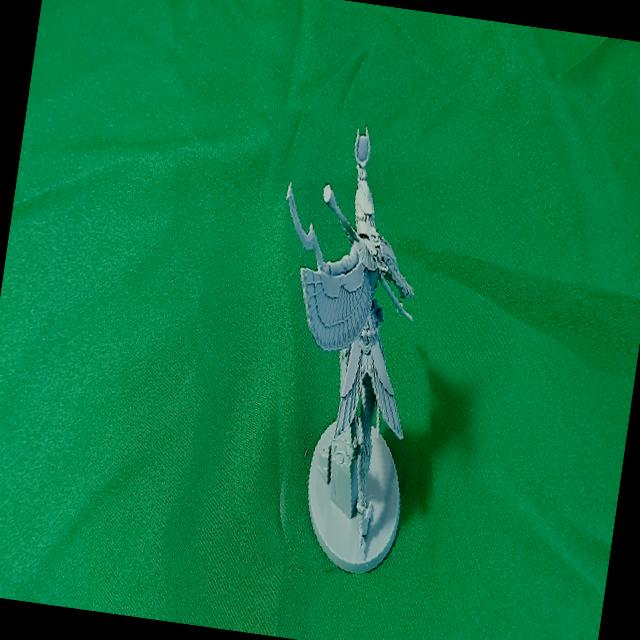isis: (223, 92, 479, 590)
